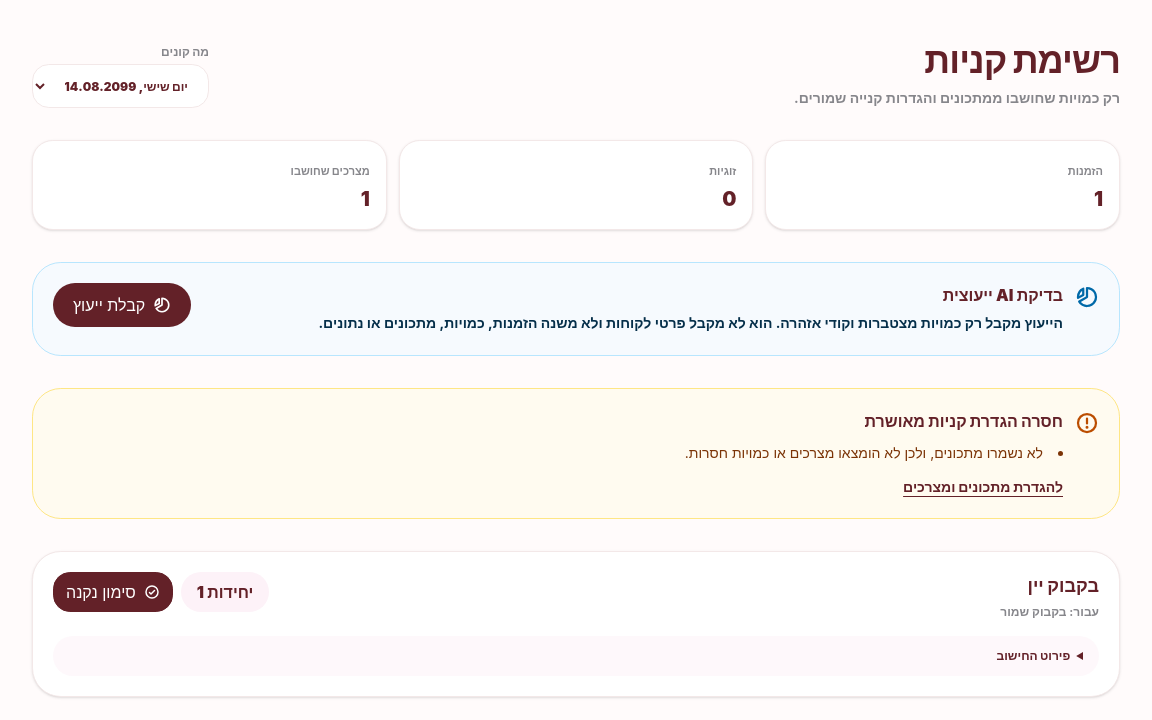
ShoppingListScreen › blocks a checked-row write when the loaded envelope drifts in the background
What coordinates should you click on to do the following:
click the button with aria-label "סימון בקבוק יין כנקנה"
I would click on:
 (113, 592)
Its box is top-left (53, 572), bottom-right (173, 612).
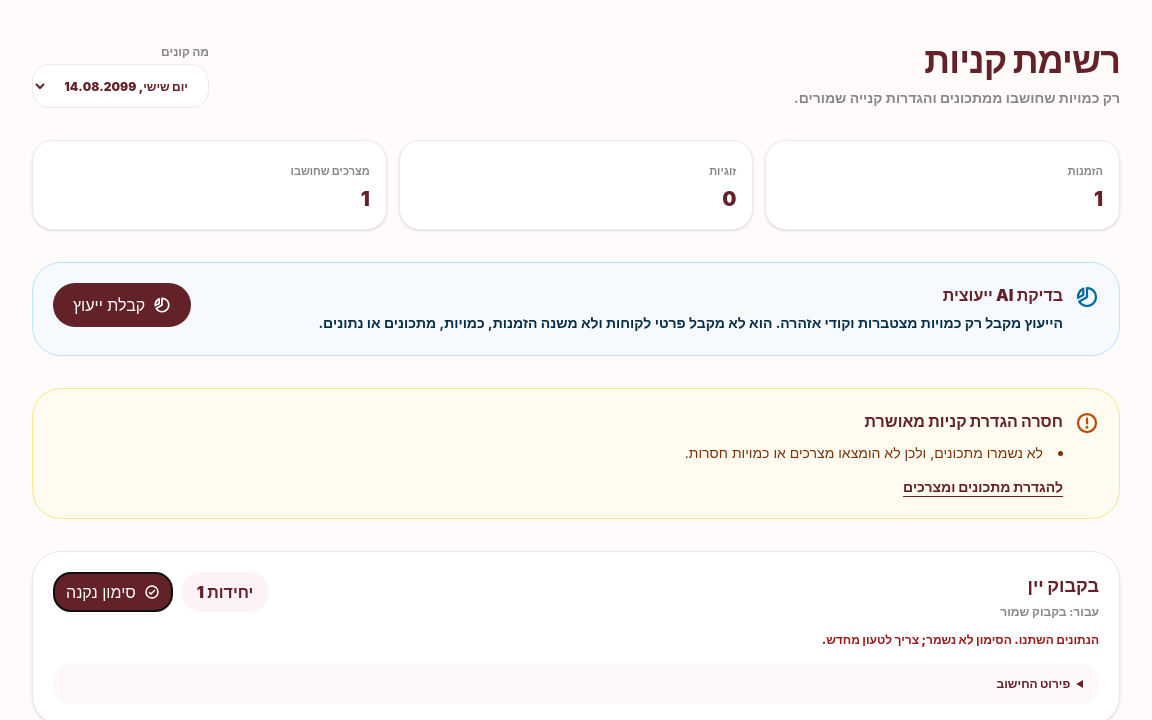
Check: the text "הנתונים השתנו. הסימון לא נשמר; צריך לטעון מחדש." is shown, box top-left (822, 632), bottom-right (1099, 647)
